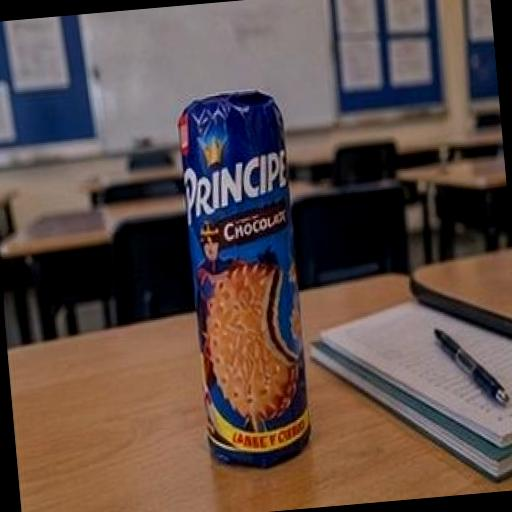prince: (108, 55, 393, 512)
